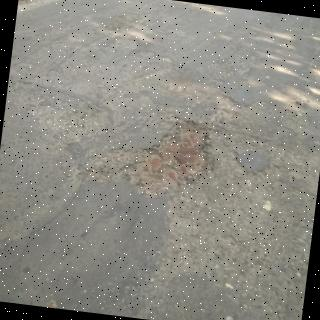pothole: (80, 120, 215, 198)
